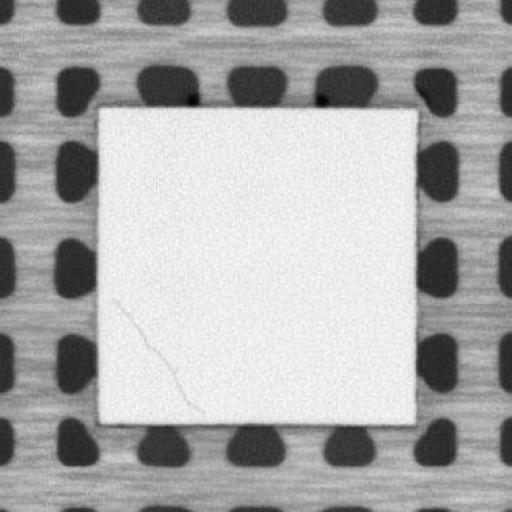DIE_CRACK: (108, 295, 199, 412)
